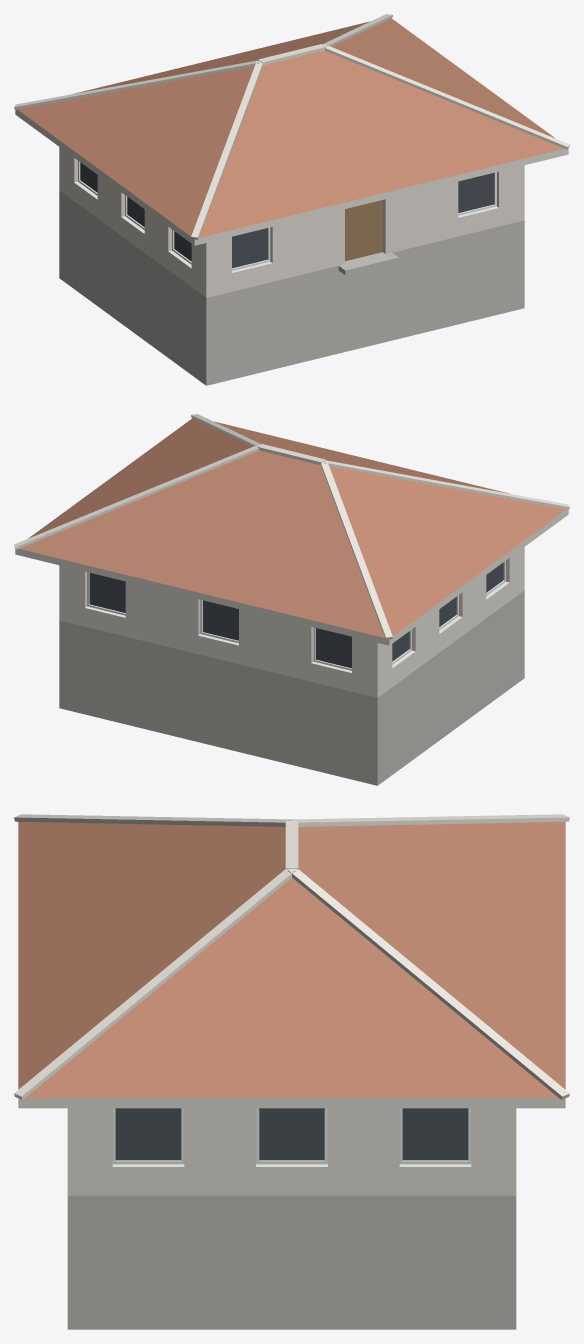
Rendered from tropical_hipped_1_m.glb.
3 renders of one model, top to bottom at view 1: azimuth 30°, elevation 25°; view 2: azimuth 150°, elevation 25°; view 3: azimuth 270°, elevation 25°, orthographic. The views are drawn at different scales.
Visible parts, largest first — view 1: tropical_hipped_1_m; view 2: tropical_hipped_1_m; view 3: tropical_hipped_1_m.
Boxes of the visible parts, x1,y1,x2,y2 form: tropical_hipped_1_m: [14, 14, 569, 385]; tropical_hipped_1_m: [14, 414, 569, 785]; tropical_hipped_1_m: [14, 814, 569, 1329].
Size of the model in its own units: 14.89 by 9.02 by 12.39.
